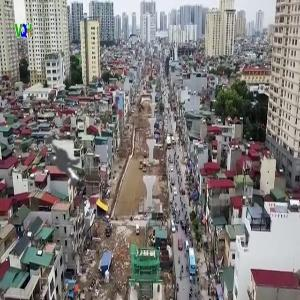drone: (5, 110, 117, 222)
